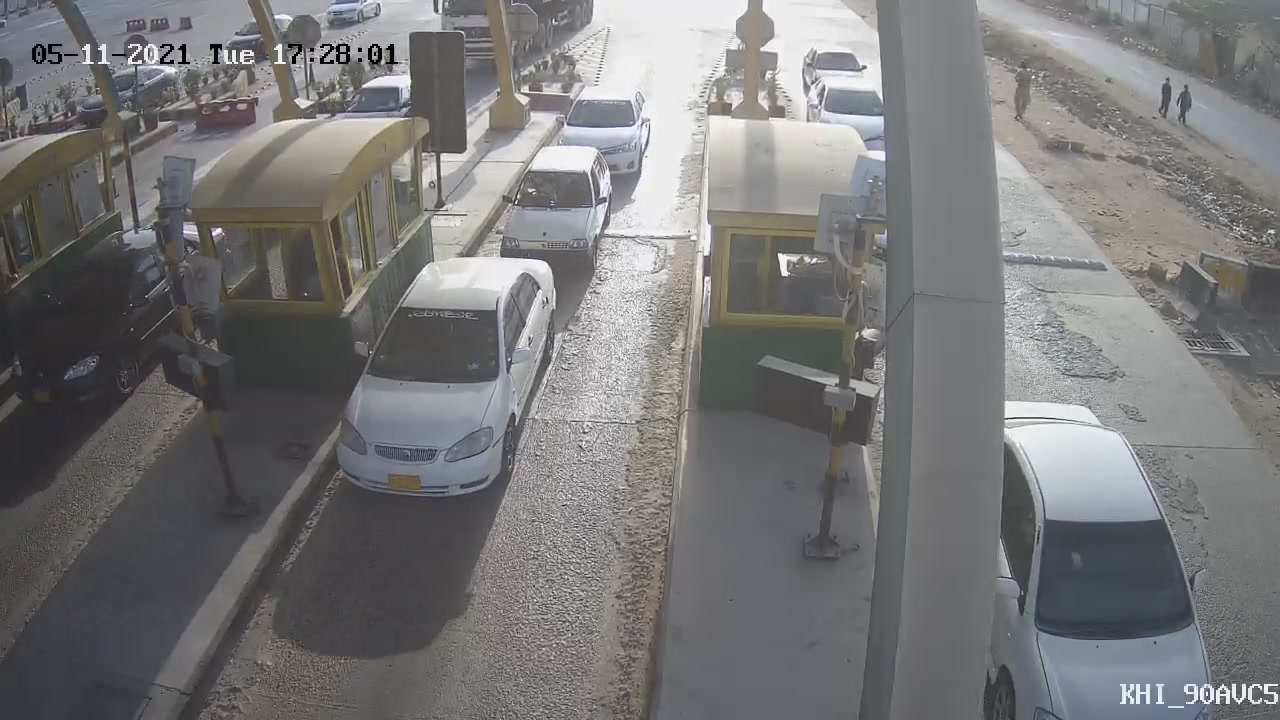F1: (317, 239, 576, 520), (486, 127, 627, 286)
